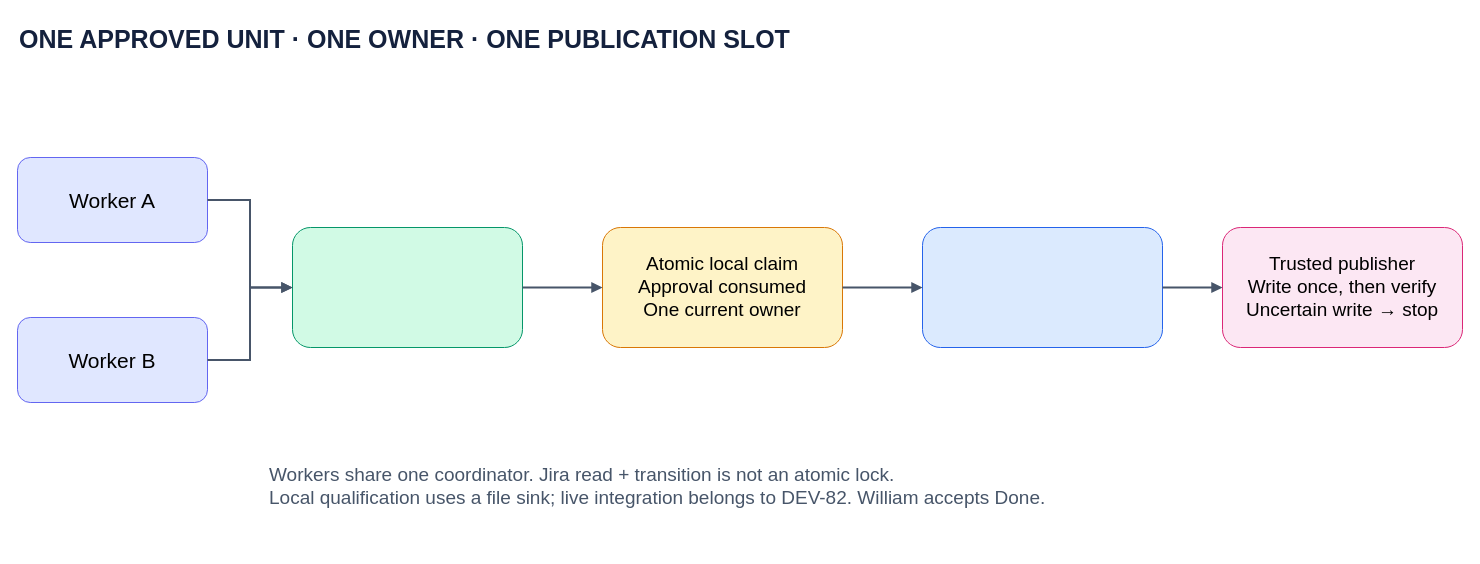
The diagram is 1480 pixels wide and 564 high, and some of its shapes have lost their labels. Here are the shapes that lost their labels. From the top down, the centre of each, then its label:
At (x=407, y=287): "Fixed approved queue Fresh Jira read Dependencies checked".
At (x=1042, y=287): "Checked runner result Exact request + result One publication slot".
